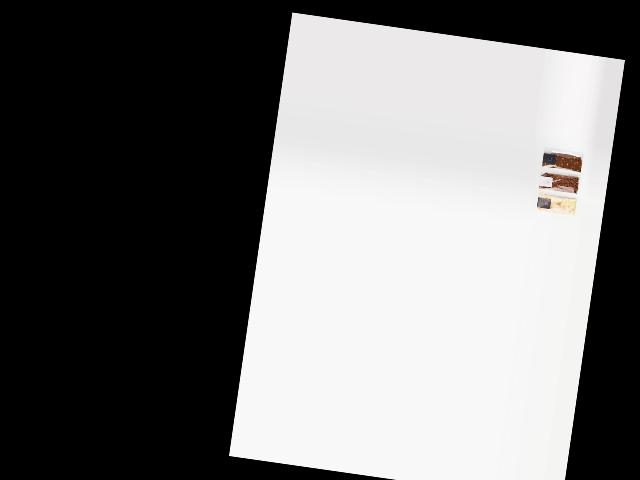chocolate: (542, 147, 585, 171)
